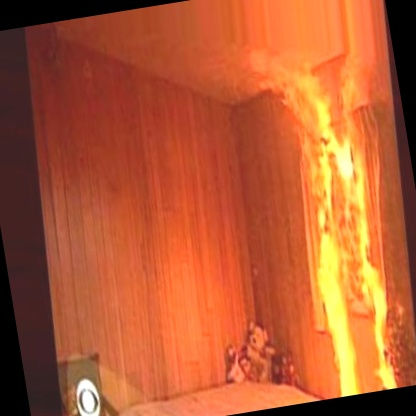fire: (237, 0, 416, 403)
